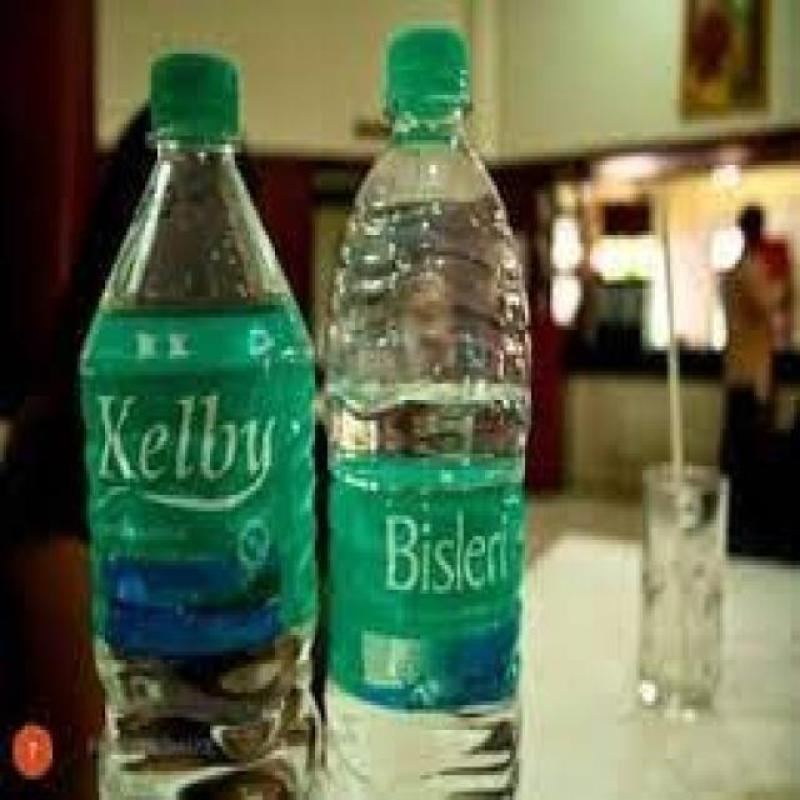botella: (75, 57, 319, 800), (320, 25, 532, 800)
